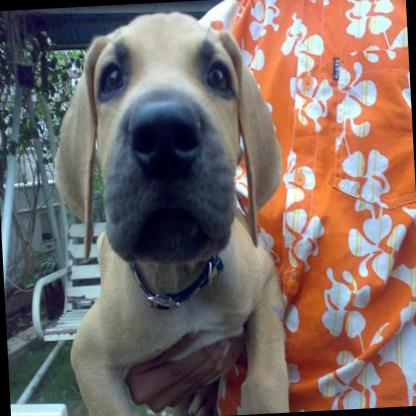Great_Dane: (43, 3, 292, 416)
